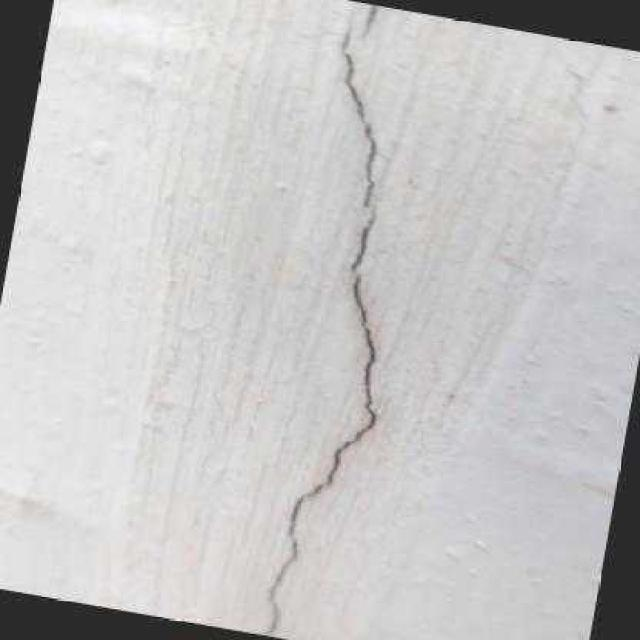D00: (258, 29, 377, 636), (356, 3, 379, 37)
